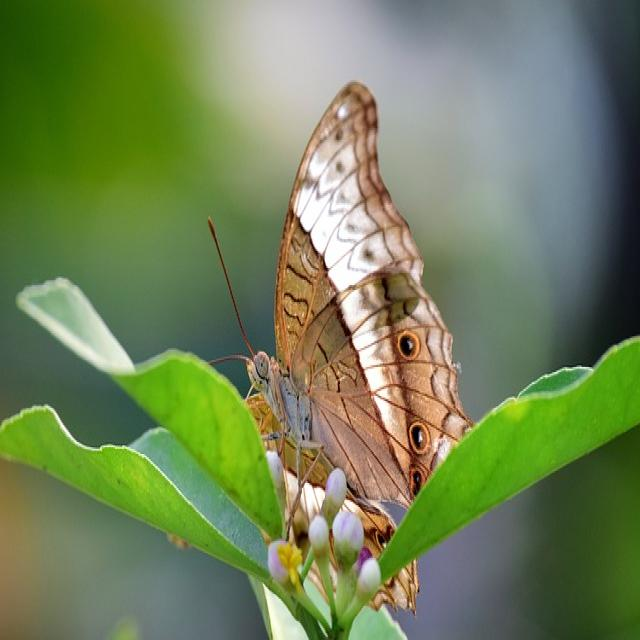butterfly: (248, 83, 471, 545)
